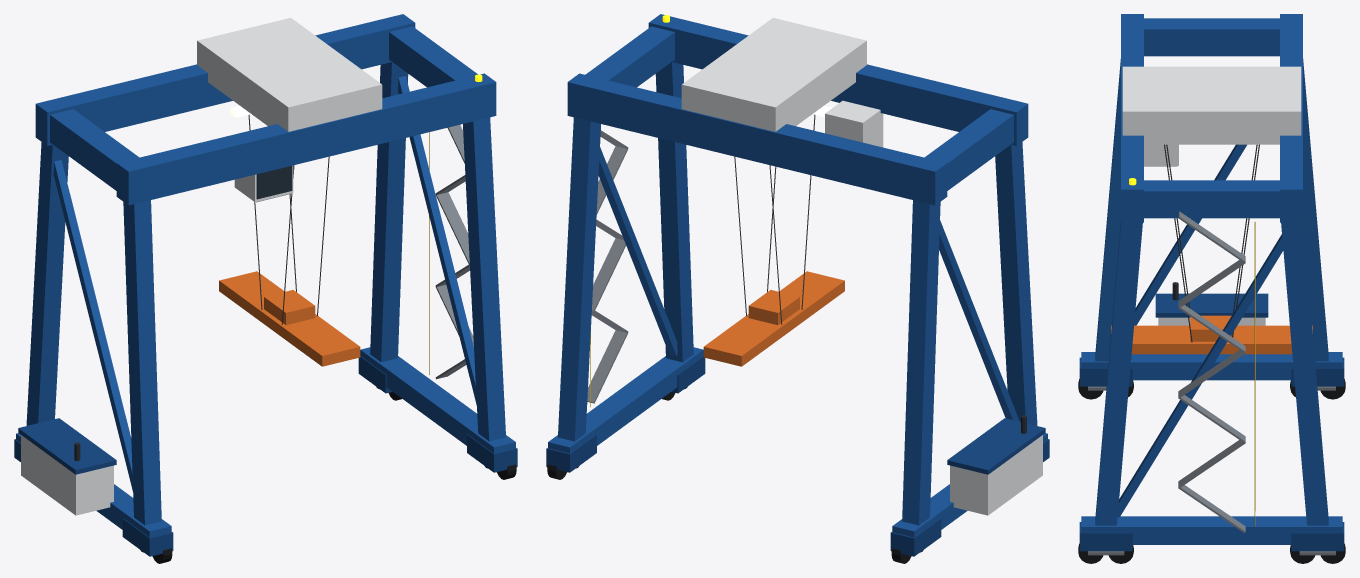
Rendered from rtg_crane.glb.
3 views of the same model, side by side, from view 1: azimuth 30°, elevation 25°; view 2: azimuth 150°, elevation 25°; view 3: azimuth 270°, elevation 25° (orthographic). The views are drawn at different scales.
Parts seen in each view (by area): view 1: rtg; view 2: rtg; view 3: rtg.
Part boxes in pixels (<box>): rtg: <box>14,14,517,563</box>; rtg: <box>546,14,1049,563</box>; rtg: <box>1078,14,1345,563</box>.
Bounding box in the file's own units: 28.5 × 26.6 × 16.16.
